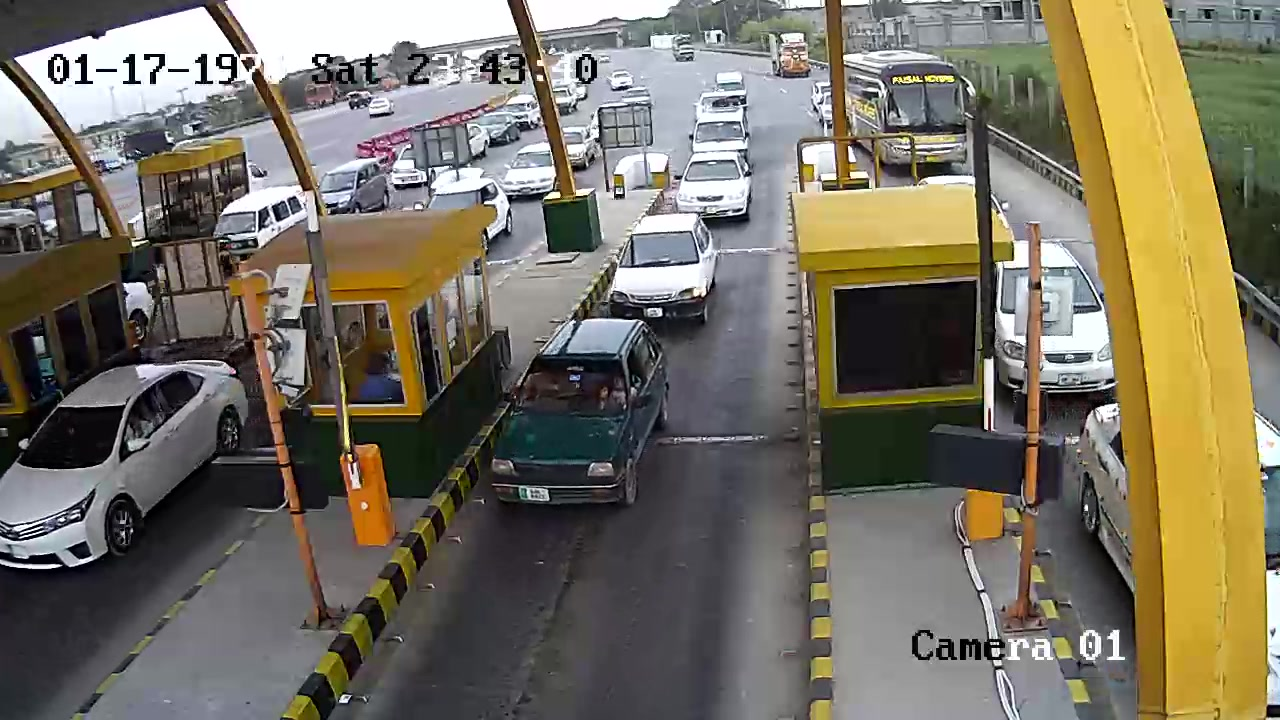F1: (489, 316, 678, 522)
